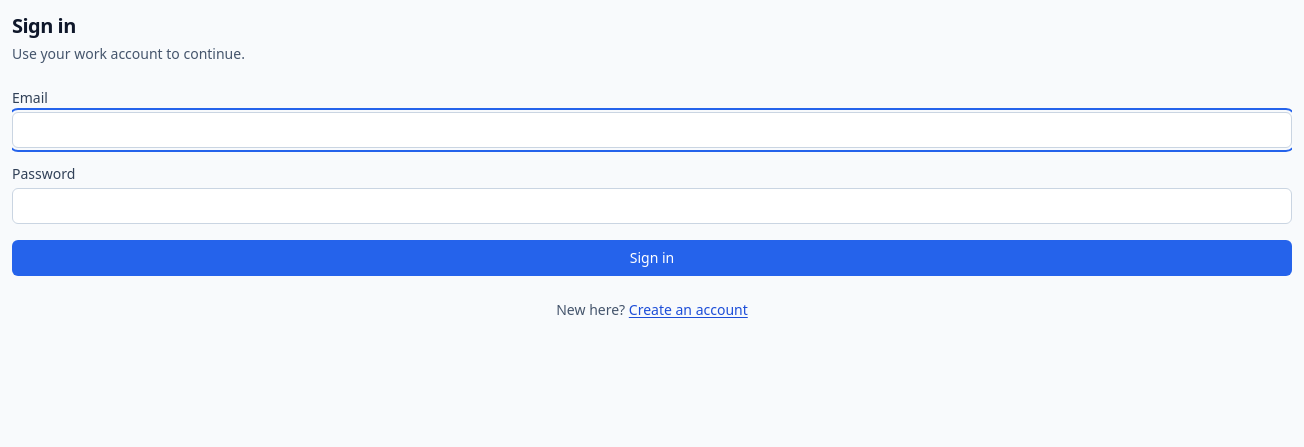
LoginForm › shows the server's message and request id when the credentials are wrong
Step 1. Type "ada@acme.test" into the field with test id "login-email" → (652, 130), box top-left (12, 112), bottom-right (1292, 148)
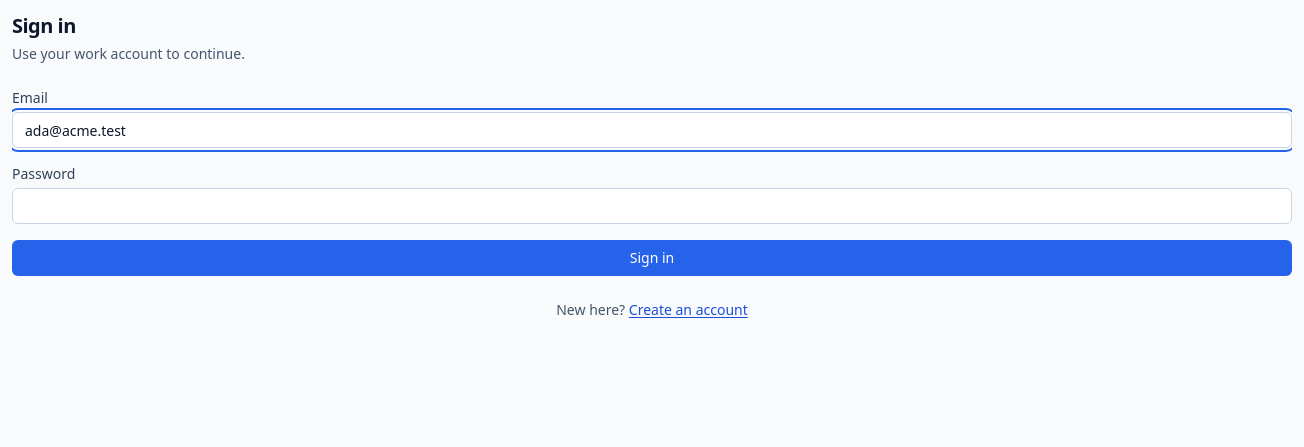
Step 2. Type "wrong" into the password field with test id "login-password" → (652, 206), box top-left (12, 188), bottom-right (1292, 224)
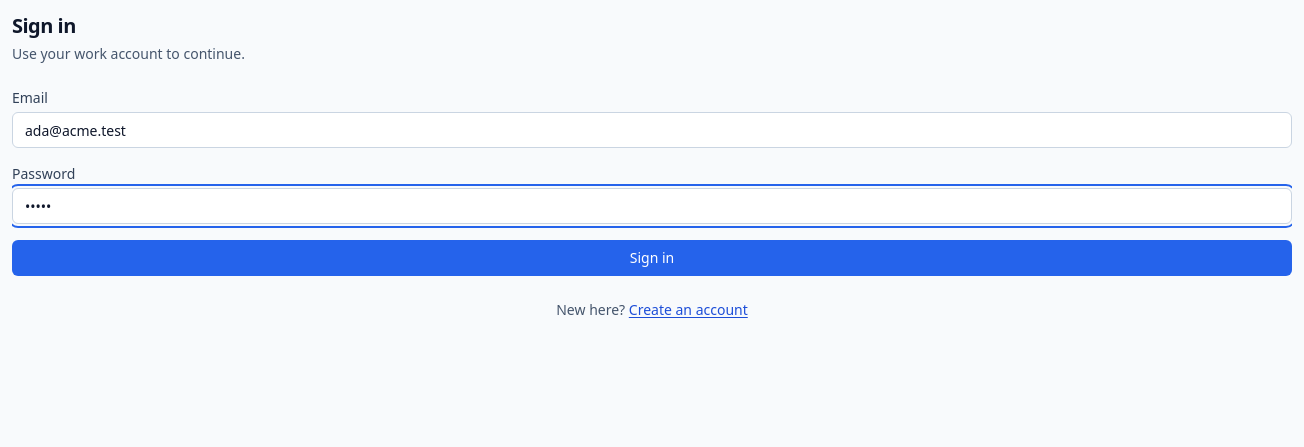
Step 3. Click the button with test id "login-submit" → (652, 258), box top-left (12, 240), bottom-right (1292, 276)
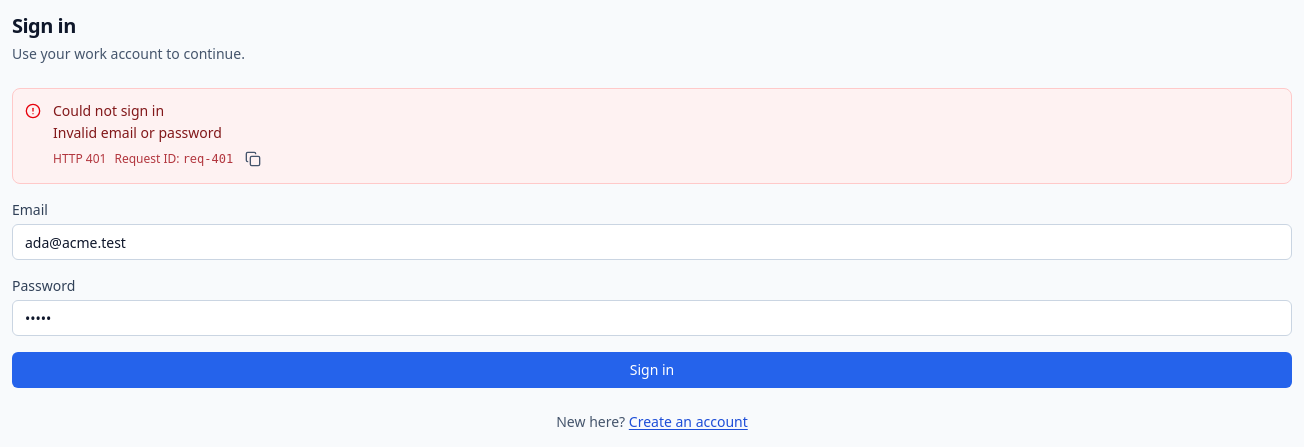
Expected: the message with test id "login-error" shows "Invalid email or password", top-left (53, 123), bottom-right (222, 142)
Expected: the message with test id "login-error" shows "req-401", top-left (183, 152), bottom-right (233, 166)
